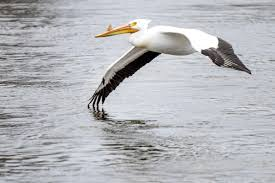pelican: (88, 19, 252, 120)
